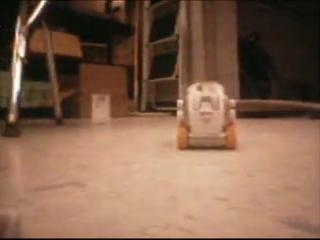cozmo: (175, 80, 238, 150)
